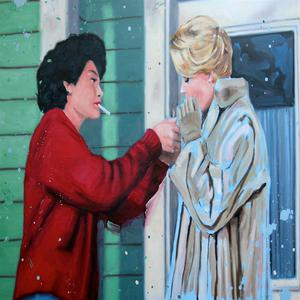cigarette: (95, 103, 111, 116)
